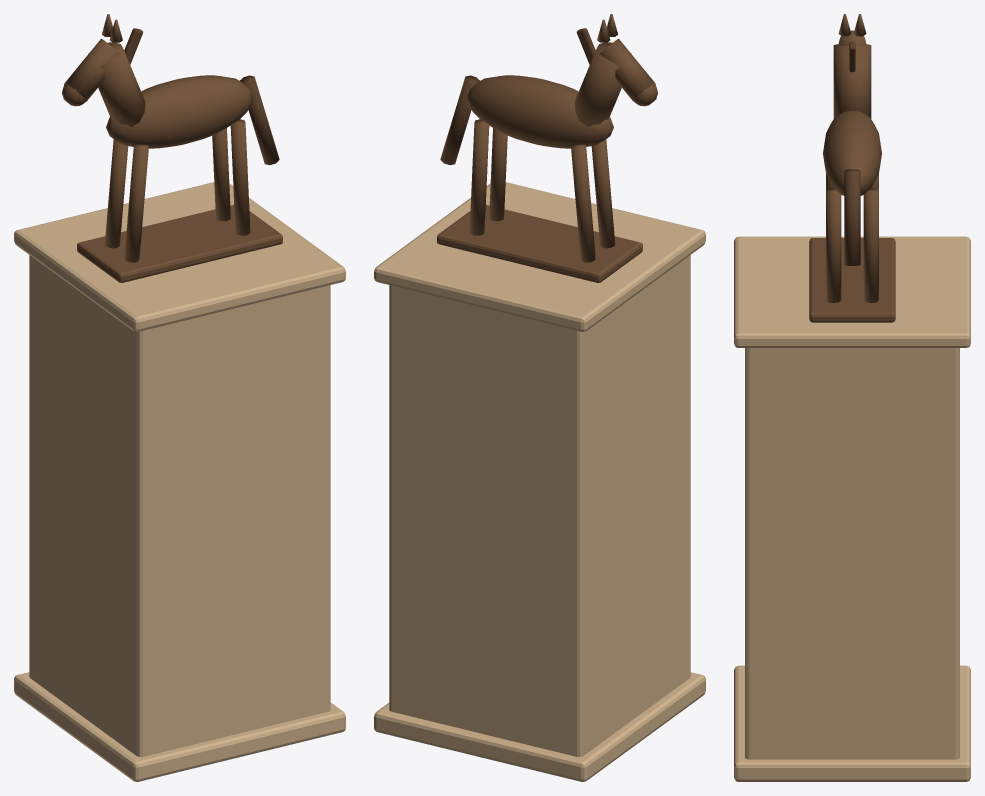
The model's file is statueHorse.glb.
The picture shows the model from 3 angles, left to right: view 1: azimuth 30°, elevation 25°; view 2: azimuth 150°, elevation 25°; view 3: azimuth 270°, elevation 25°; orthographic projection. The views are drawn at different scales.
Visible parts, largest first — view 1: statueHorse; view 2: statueHorse; view 3: statueHorse.
Part boxes in pixels (x1,y1,x2,y2): statueHorse: (14, 14, 345, 781); statueHorse: (374, 14, 705, 781); statueHorse: (734, 14, 970, 781).
Bounding box in the file's own units: 0.4597 × 1.41 × 0.44.
